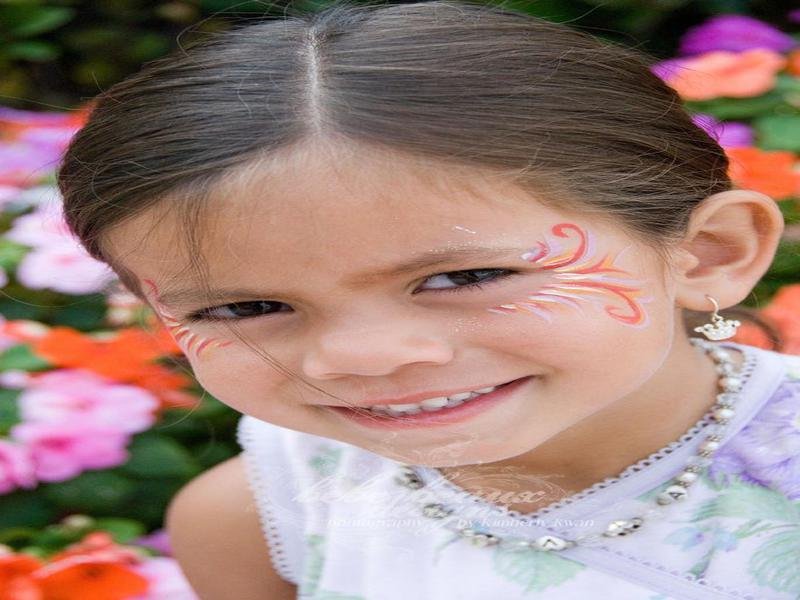person: (50, 1, 800, 600)
